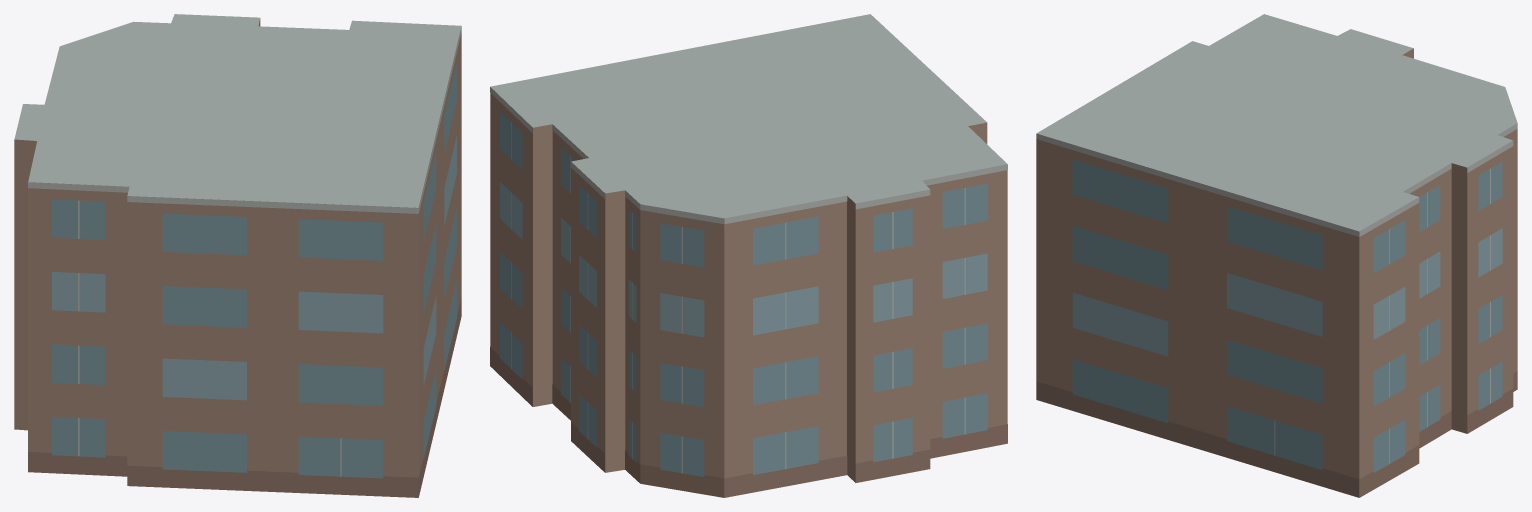
The model's file is survey-upis-32836405.glb.
The picture shows the model from 3 angles, left to right: view 1: azimuth 30°, elevation 25°; view 2: azimuth 150°, elevation 25°; view 3: azimuth 270°, elevation 25°; orthographic projection. The views are drawn at different scales.
Parts seen in each view (by area): view 1: survey-upis-32836405.tmp; view 2: survey-upis-32836405.tmp; view 3: survey-upis-32836405.tmp.
Boxes of the visible parts, bbox=[...] form: survey-upis-32836405.tmp: bbox=[14, 14, 461, 497]; survey-upis-32836405.tmp: bbox=[490, 14, 1007, 497]; survey-upis-32836405.tmp: bbox=[1036, 14, 1517, 497].
Bounding box in the file's own units: 20.5 × 11.7 × 19.17.
